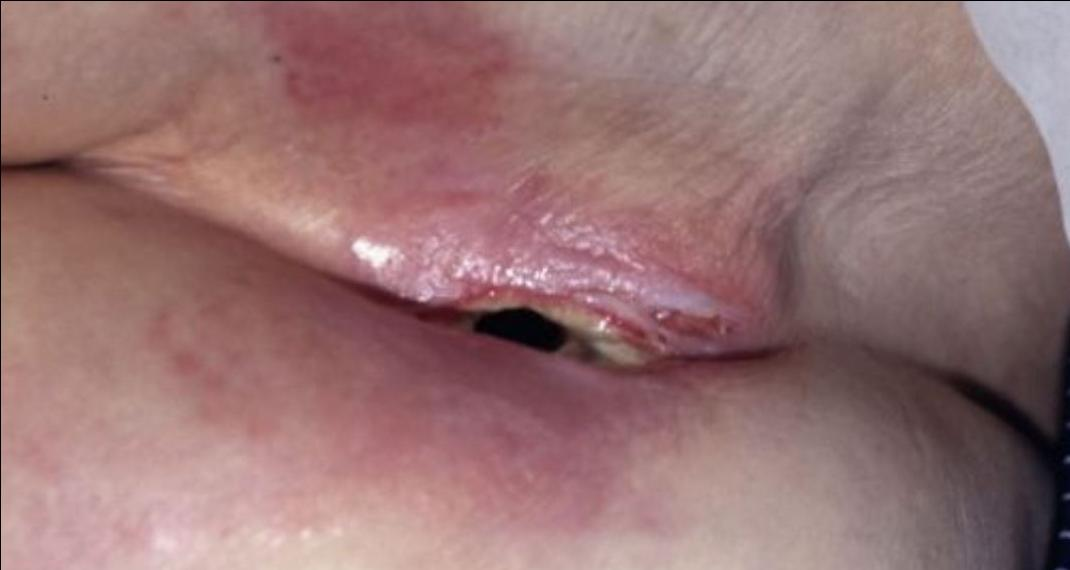Stage3: (385, 218, 803, 459)
